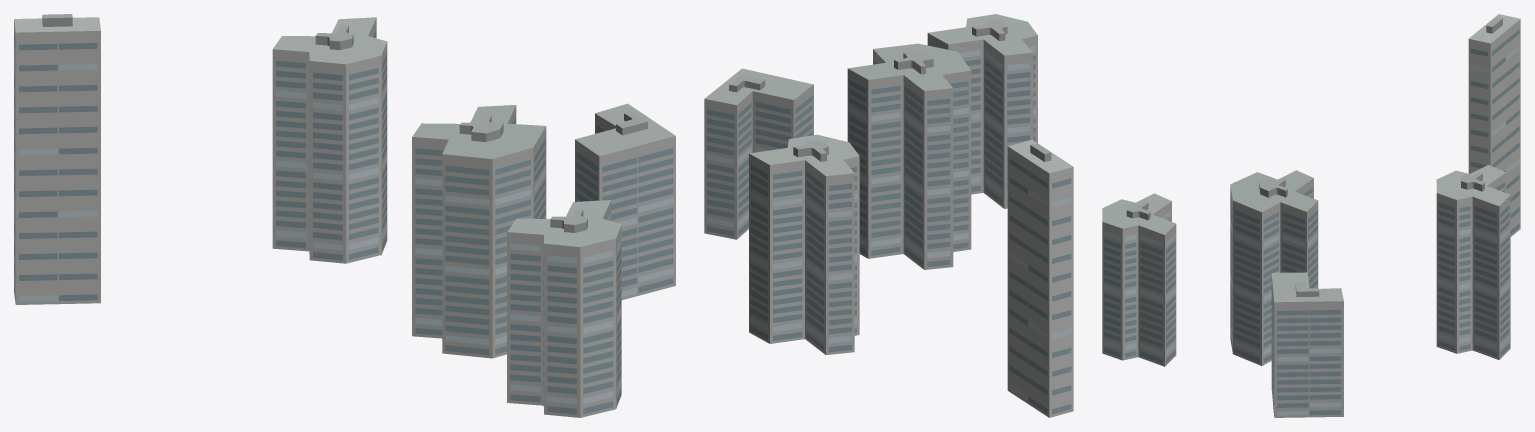
Rendered from apt-a10023449.glb.
3 views of the same model, side by side, from view 1: azimuth 30°, elevation 25°; view 2: azimuth 150°, elevation 25°; view 3: azimuth 270°, elevation 25° (orthographic). The views are drawn at different scales.
Visible parts, largest first — view 1: apt-a10023449; view 2: apt-a10023449; view 3: apt-a10023449.
Part boxes in pixels (left/top/right/bottom): apt-a10023449: left=14, top=14, right=675, bottom=417; apt-a10023449: left=704, top=14, right=1073, bottom=417; apt-a10023449: left=1102, top=14, right=1520, bottom=417.
Bounding box in the file's own units: 148 × 77 × 135.
